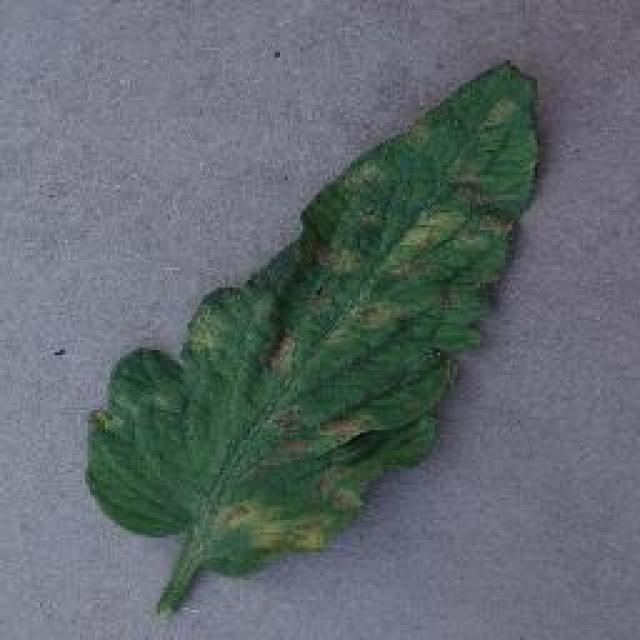Tomato mold leaf: (84, 54, 544, 581)
